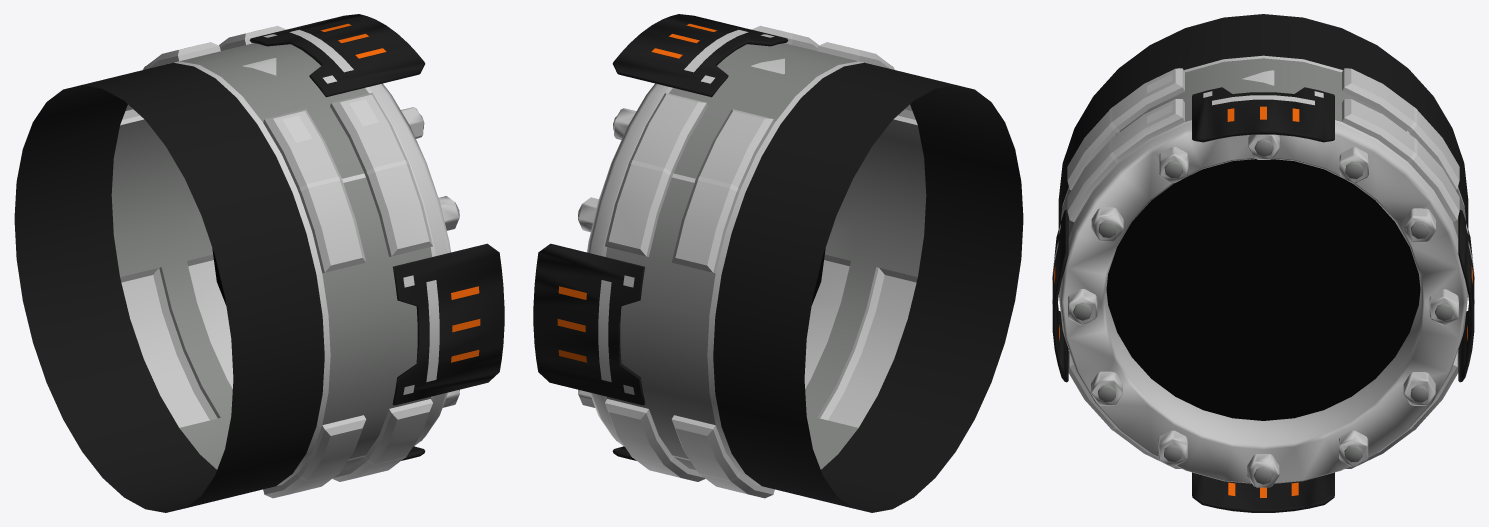
Rendered from FactoryPipe_In.obj.
The picture shows the model from 3 angles, left to right: view 1: azimuth 30°, elevation 25°; view 2: azimuth 150°, elevation 25°; view 3: azimuth 270°, elevation 25°; orthographic projection. The views are drawn at different scales.
Parts seen in each view (by area): view 1: FactoryPipe_In; view 2: FactoryPipe_In; view 3: FactoryPipe_In.
Part boxes in pixels (<box>): FactoryPipe_In: <box>14,14,504,512</box>; FactoryPipe_In: <box>533,14,1023,512</box>; FactoryPipe_In: <box>1052,14,1474,512</box>.
Size of the model in its own units: 138 by 202 by 201.
